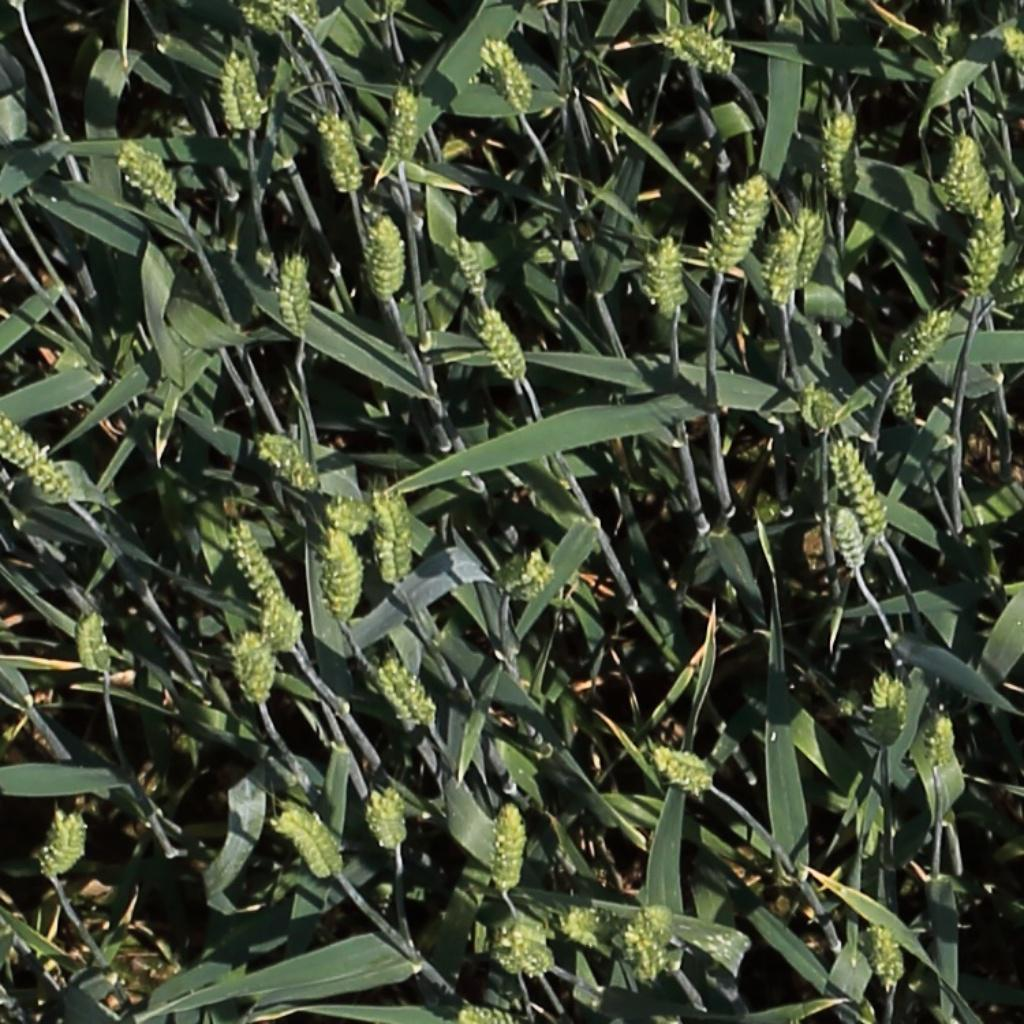0-0: (0, 409, 73, 503), (709, 172, 770, 275), (228, 516, 286, 618), (834, 438, 891, 540), (550, 891, 621, 957), (890, 307, 954, 380), (274, 809, 334, 884), (484, 34, 536, 120), (479, 301, 531, 386), (380, 656, 436, 731), (970, 189, 1006, 303), (117, 140, 181, 204), (316, 105, 361, 193), (256, 434, 320, 494), (324, 520, 359, 628), (646, 229, 688, 318), (40, 808, 86, 887), (628, 903, 670, 988), (365, 208, 402, 302), (950, 128, 988, 219), (865, 668, 908, 748), (498, 920, 554, 981), (445, 229, 491, 301), (671, 25, 733, 75), (225, 47, 259, 137), (236, 626, 270, 712), (827, 105, 857, 202), (370, 785, 408, 860), (774, 218, 804, 312), (834, 501, 871, 577), (922, 13, 968, 74), (652, 749, 715, 793), (502, 551, 555, 603), (371, 481, 410, 551), (496, 798, 522, 902), (263, 588, 300, 660), (283, 247, 311, 342), (871, 917, 906, 993), (389, 79, 419, 166), (795, 202, 824, 292), (375, 521, 408, 592), (800, 378, 839, 438), (80, 607, 111, 682), (323, 492, 372, 531), (994, 18, 1024, 79), (932, 711, 957, 779), (238, 2, 283, 36), (289, 0, 322, 35), (458, 1007, 517, 1024)
